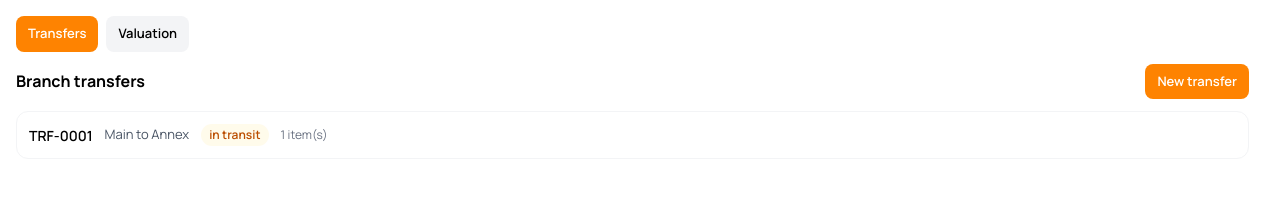
Test: lists transfers and opens one
What coordinates should you click on to do the following:
click the text "TRF-0001"
I would click on:
 (61, 135)
Its box is [29,124,92,146].
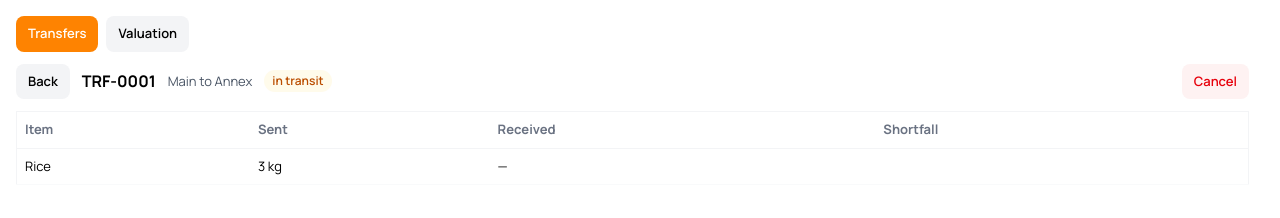
Expected: the element with test id "transfer-detail" is shown
